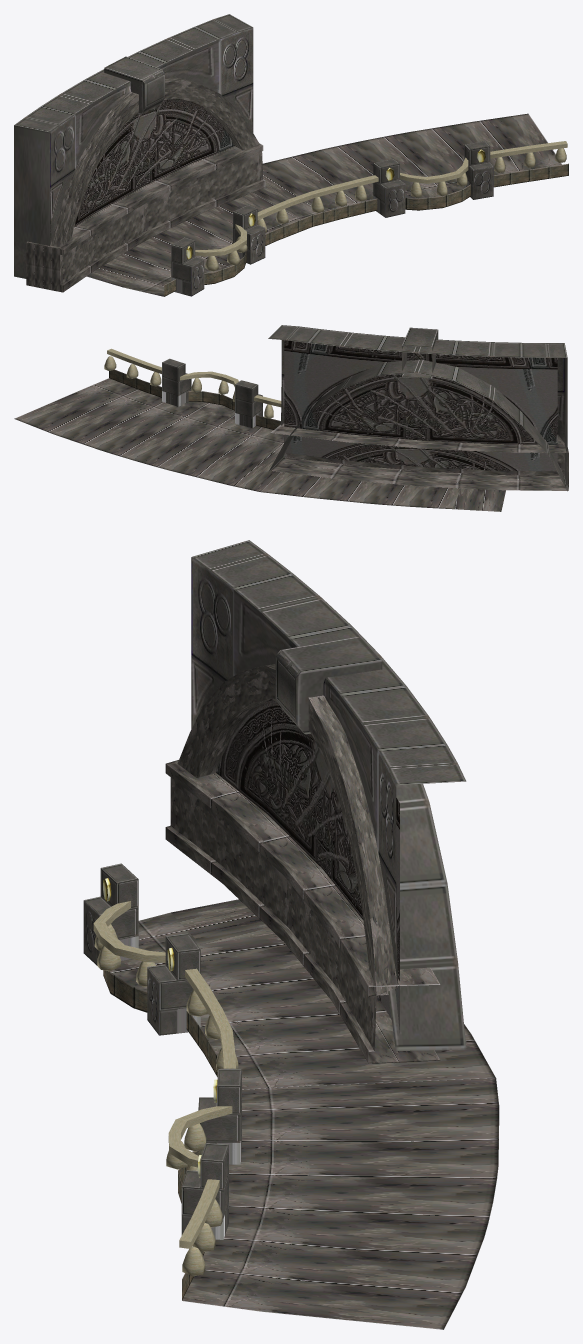
The model's file is CH09_SMAUG_PLAYSURFACE_LAIR25.fbx.
3 renders of one model, top to bottom at view 1: azimuth 30°, elevation 25°; view 2: azimuth 150°, elevation 25°; view 3: azimuth 270°, elevation 25°, orthographic. The views are drawn at different scales.
Visible parts, largest first — view 1: CH09_SMAUG_PLAYSURFACE_LAIR25; view 2: CH09_SMAUG_PLAYSURFACE_LAIR25; view 3: CH09_SMAUG_PLAYSURFACE_LAIR25.
Part boxes in pixels (<box>): CH09_SMAUG_PLAYSURFACE_LAIR25: <box>14,14,568,296</box>; CH09_SMAUG_PLAYSURFACE_LAIR25: <box>14,325,568,511</box>; CH09_SMAUG_PLAYSURFACE_LAIR25: <box>83,540,499,1329</box>.
Size of the model in its own units: 300850 by 88189 by 107264.
Materials: 8 (8 with a texture image).
